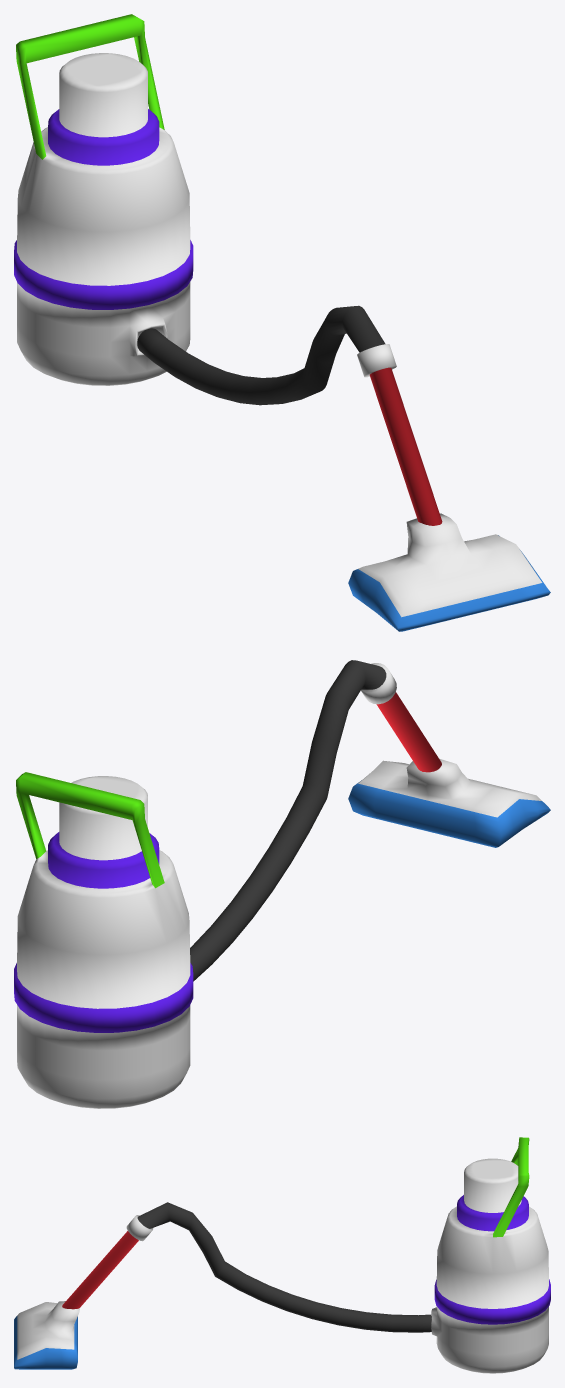
Rendered from vacuum.fbx.
3 views of the same model, one above another, from view 1: azimuth 30°, elevation 25°; view 2: azimuth 150°, elevation 25°; view 3: azimuth 270°, elevation 25° (orthographic). The views are drawn at different scales.
Visible parts, largest first — view 1: Vacuum, Head, Tube; view 2: Vacuum, Tube, Head; view 3: Vacuum, Tube, Head.
Part boxes in pixels (box(x1,y1,x2,y2)): Vacuum: box(14, 14, 193, 385); Head: box(348, 513, 550, 631); Tube: box(137, 305, 442, 525); Vacuum: box(14, 772, 193, 1108); Tube: box(190, 660, 441, 981); Head: box(348, 758, 550, 847); Vacuum: box(431, 1137, 550, 1373); Tube: box(62, 1202, 431, 1332); Head: box(14, 1301, 79, 1369).
Size of the model in its own units: 207 by 389 by 955.
